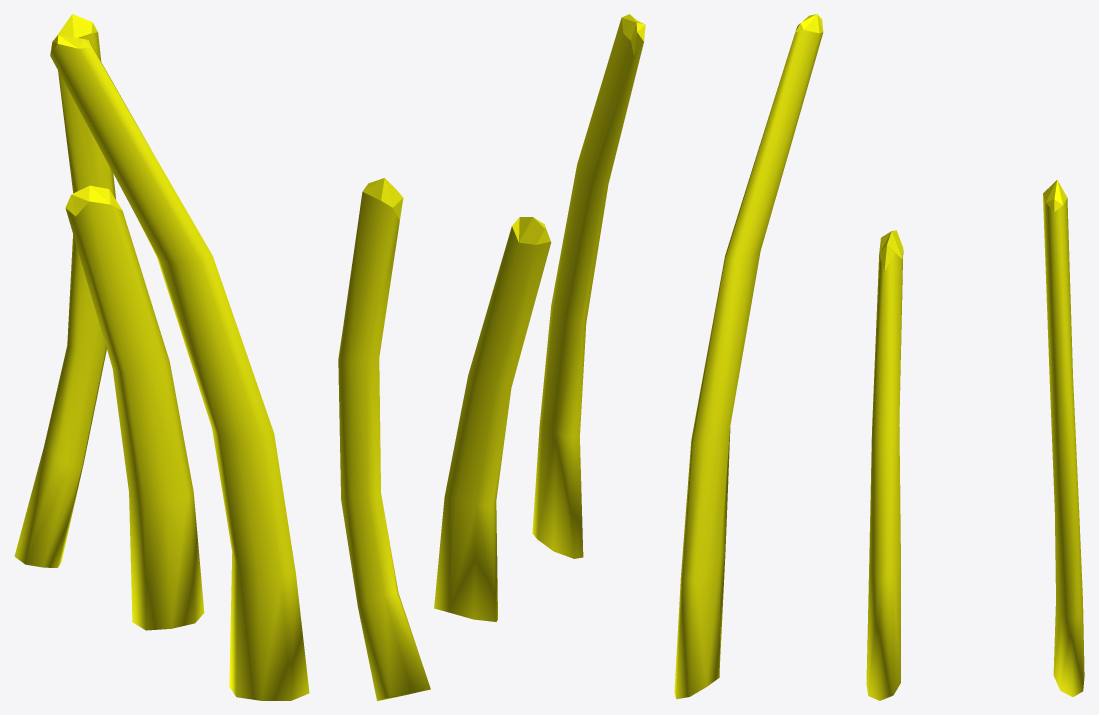
File: bone_whale_deco01.glb
The picture shows the model from 3 angles, left to right: view 1: azimuth 30°, elevation 25°; view 2: azimuth 150°, elevation 25°; view 3: azimuth 270°, elevation 25°; orthographic projection. The views are drawn at different scales.
Visible parts, largest first — view 1: bone_whale_deco01; view 2: bone_whale_deco01; view 3: bone_whale_deco01.
Part boxes in pixels (x1,y1,x2,y2): bone_whale_deco01: (14,14,309,700); bone_whale_deco01: (338,14,645,700); bone_whale_deco01: (674,14,1084,700).
Size of the model in its own units: 3.88 by 12.45 by 7.47.
1 material, 1 textured.
